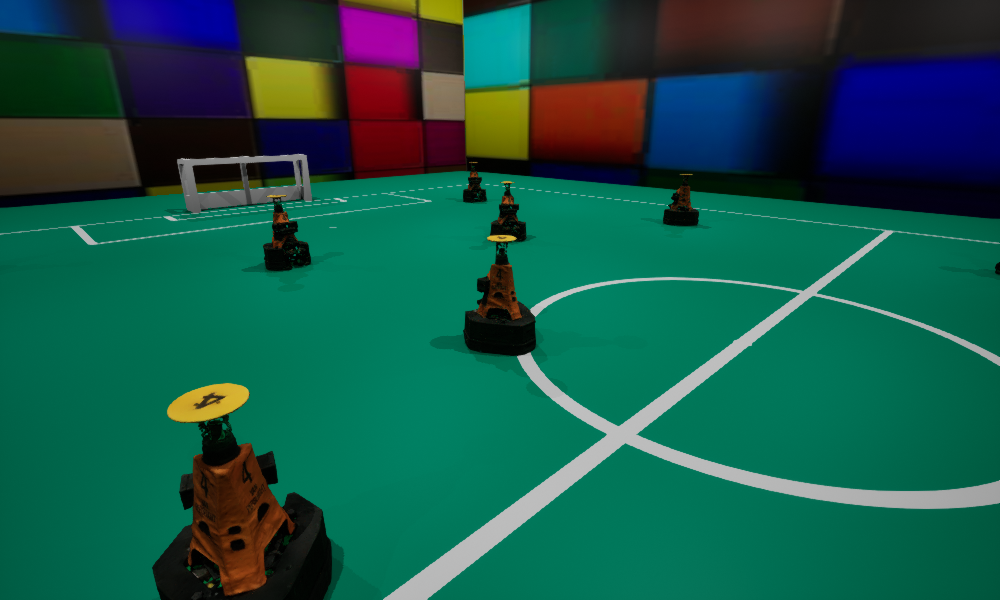o: (152, 383, 331, 599), (463, 235, 535, 355), (263, 195, 310, 270), (490, 181, 526, 242), (663, 174, 698, 225), (463, 162, 486, 202), (995, 262, 999, 274)
